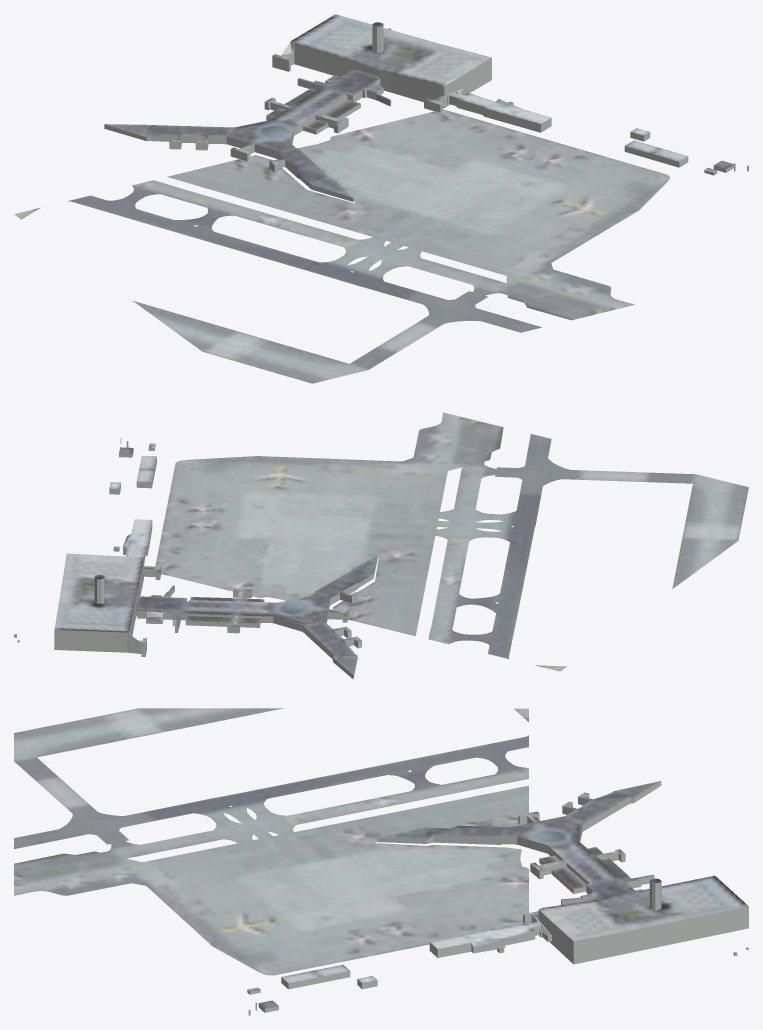
The model's file is LFSB_1_-1.glb.
3 views of the same model, one above another, from view 1: azimuth 30°, elevation 25°; view 2: azimuth 150°, elevation 25°; view 3: azimuth 270°, elevation 25° (orthographic). The views are drawn at different scales.
Parts seen in each view (by area): view 1: pavement_LFSB_pavement_5213_2543, building_BATIMENT0000002004610872, building_BATIMENT0000002204047529, pavement_LFSB_pavement_5214_2543, building_BATIMENT0000002204047384, building_BATIMENT0000000228170128; view 2: pavement_LFSB_pavement_5213_2543, building_BATIMENT0000002204047529, building_BATIMENT0000002004610872, pavement_LFSB_pavement_5214_2543, building_BATIMENT0000002204047384, building_BATIMENT0000000228170128, building_BATIMENT0000002204047487; view 3: pavement_LFSB_pavement_5213_2543, building_BATIMENT0000002004610872, building_BATIMENT0000002204047529, pavement_LFSB_pavement_5214_2543, building_BATIMENT0000002204047384, building_BATIMENT0000000228170128, building_BATIMENT0000002204047518.
Boxes of the visible parts, <box> form: pavement_LFSB_pavement_5213_2543: <box>14,109,634,383</box>; building_BATIMENT0000002004610872: <box>272,14,491,107</box>; building_BATIMENT0000002204047529: <box>104,69,383,201</box>; pavement_LFSB_pavement_5214_2543: <box>448,111,669,227</box>; building_BATIMENT0000002204047384: <box>424,89,551,132</box>; building_BATIMENT0000000228170128: <box>624,140,688,167</box>; pavement_LFSB_pavement_5213_2543: <box>161,412,748,671</box>; building_BATIMENT0000002204047529: <box>135,555,377,679</box>; building_BATIMENT0000002004610872: <box>54,553,146,656</box>; pavement_LFSB_pavement_5214_2543: <box>155,456,306,566</box>; building_BATIMENT0000002204047384: <box>123,519,161,580</box>; building_BATIMENT0000000228170128: <box>136,455,156,488</box>; building_BATIMENT0000002204047487: <box>185,616,234,626</box>; pavement_LFSB_pavement_5213_2543: <box>14,708,528,925</box>; building_BATIMENT0000002004610872: <box>538,875,748,964</box>; building_BATIMENT0000002204047529: <box>377,781,661,901</box>; pavement_LFSB_pavement_5214_2543: <box>190,925,510,975</box>; building_BATIMENT0000002204047384: <box>429,911,551,957</box>; building_BATIMENT0000000228170128: <box>281,964,350,989</box>; building_BATIMENT0000002204047518: <box>551,866,586,893</box>.
Bounding box in the file's own units: 695 × 52.7 × 714.
3 materials, 2 textured.
